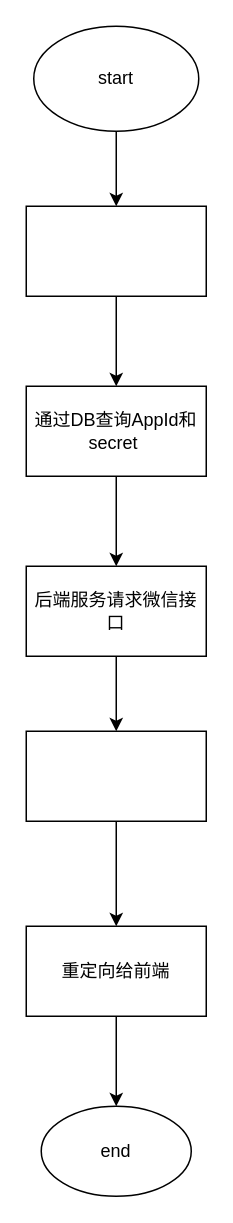
Image size: 233x1223. Some labels were removed from this diagram. Each missing label, with the centre of its shape:
带有code请求后端服务: point (115, 250)
生成新的token: point (115, 775)
